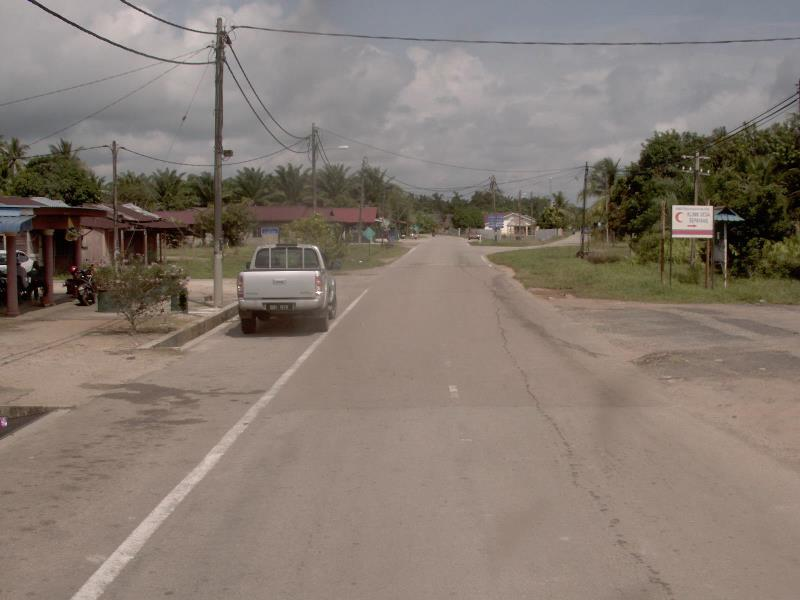ads_sign: (665, 199, 722, 245)
